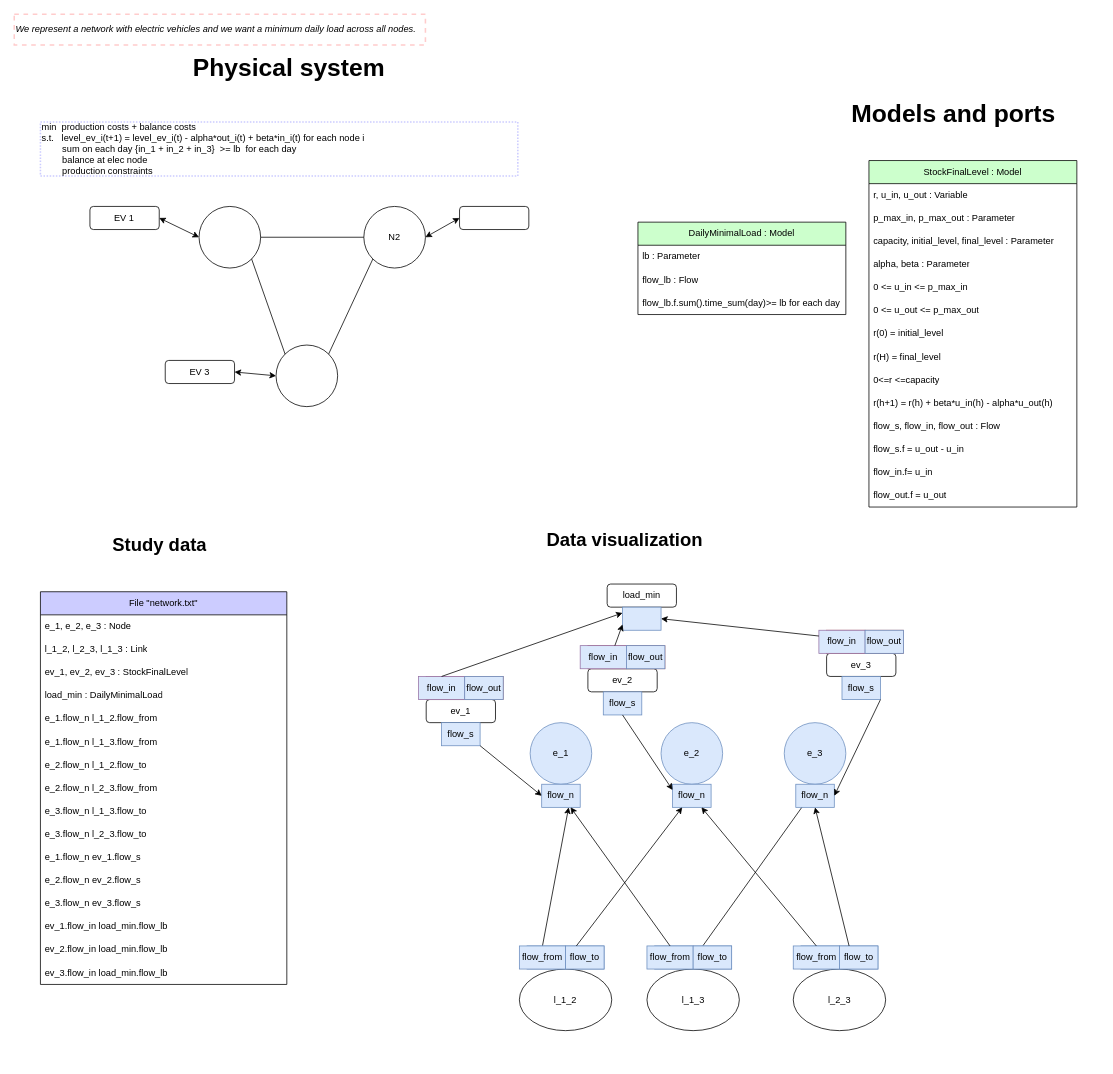
The diagram is 1113 pixels wide and 1074 high, and some of its shapes have lost their labels. The centre of each missing label's shape, as x and y in pixels:
"EV 2" goes at (x=494, y=218).
"flow_lb" goes at (x=641, y=618).
"N1" goes at (x=229, y=237).
"N3" goes at (x=306, y=375).
